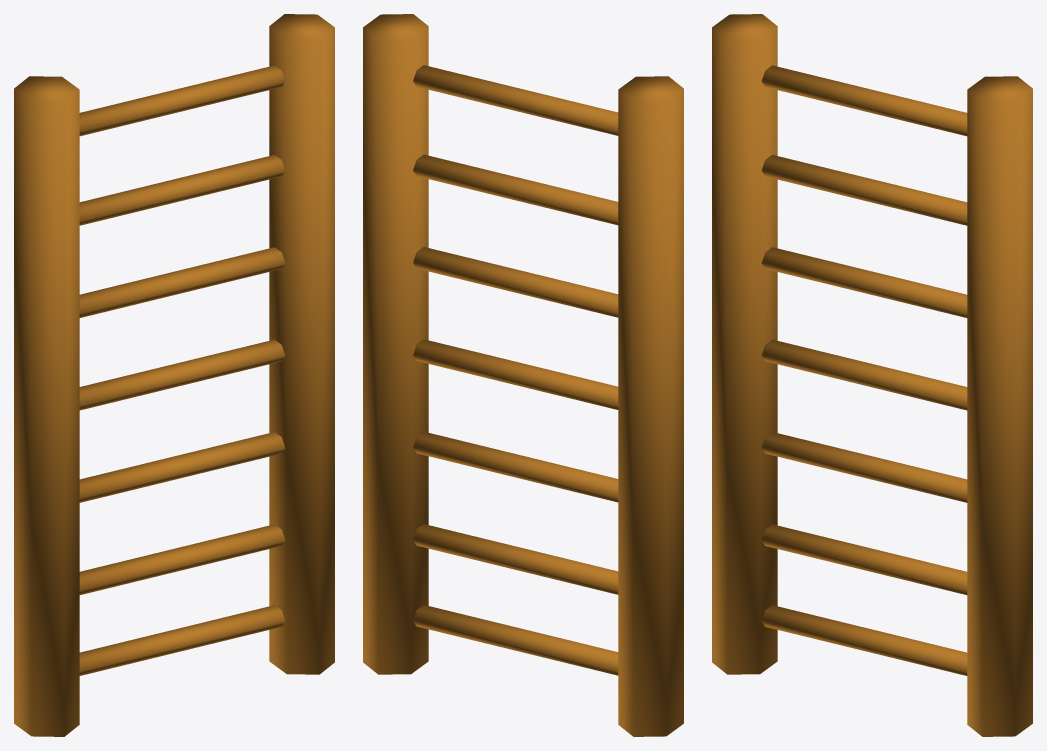
File: reha_leiter.fbx
3 renders of one model, left to right at view 1: azimuth 30°, elevation 25°; view 2: azimuth 150°, elevation 25°; view 3: azimuth 330°, elevation 25°, orthographic.
Visible parts, largest first — view 1: Cylinder.017; view 2: Cylinder.017; view 3: Cylinder.017.
Part boxes in pixels (left/top/right/bottom): Cylinder.017: left=14, top=14, right=334, bottom=736; Cylinder.017: left=363, top=14, right=683, bottom=736; Cylinder.017: left=712, top=14, right=1032, bottom=736.
Bounding box in the file's own units: 200 × 400 × 40.
